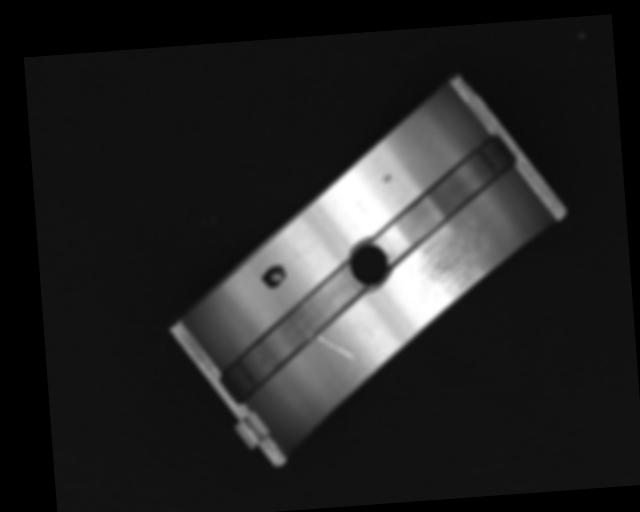blot: (259, 263, 288, 291)
bruise: (381, 173, 392, 183)
gap: (210, 265, 373, 408), (369, 133, 523, 259)
hole: (347, 236, 394, 290)
nick: (317, 331, 356, 363), (283, 236, 309, 273)
scratch: (407, 227, 495, 315)
